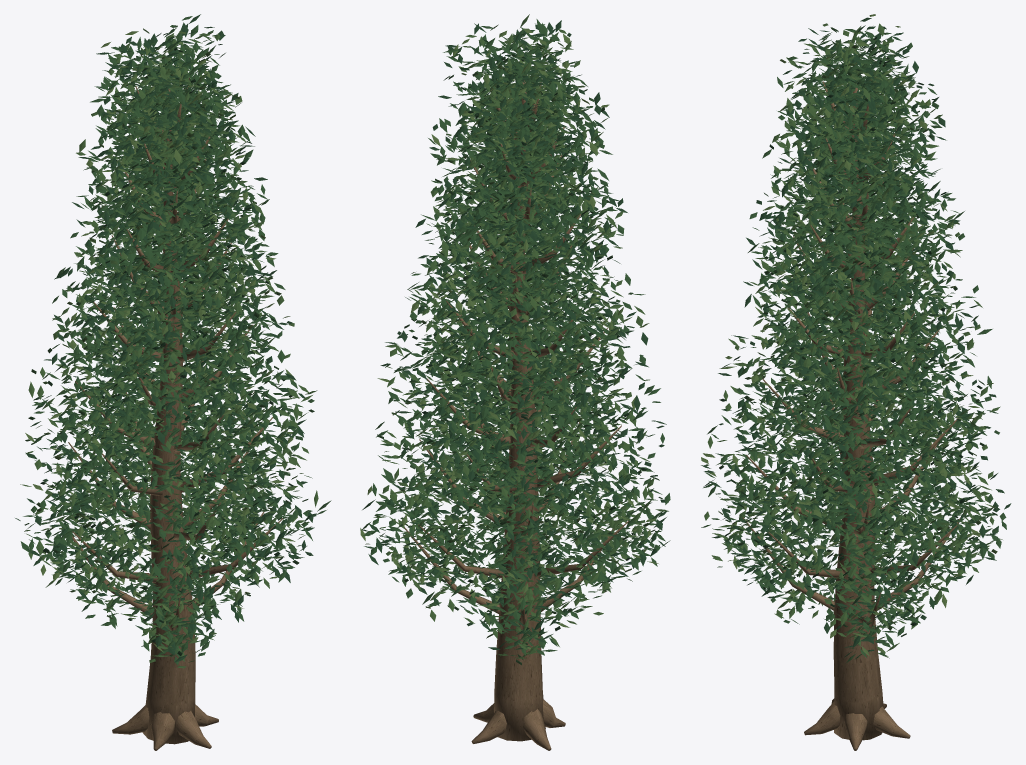
The model's file is cypress-tree.glb.
The picture shows the model from 3 angles, left to right: view 1: azimuth 30°, elevation 25°; view 2: azimuth 150°, elevation 25°; view 3: azimuth 270°, elevation 25°; orthographic projection.
Parts seen in each view (by area): view 1: 翠柏 · 立体叶冠, 翠柏 · 树干与枝系; view 2: 翠柏 · 立体叶冠, 翠柏 · 树干与枝系; view 3: 翠柏 · 立体叶冠, 翠柏 · 树干与枝系.
Part boxes in pixels (<box>): 翠柏 · 立体叶冠: <box>15,14,331,668</box>; 翠柏 · 树干与枝系: <box>61,77,283,750</box>; 翠柏 · 立体叶冠: <box>360,14,670,665</box>; 翠柏 · 树干与枝系: <box>404,80,628,750</box>; 翠柏 · 立体叶冠: <box>701,14,1011,662</box>; 翠柏 · 树干与枝系: <box>742,81,960,750</box>.
Bounding box in the file's own units: 3.92 × 9.23 × 3.71.
5 materials, 1 textured.
